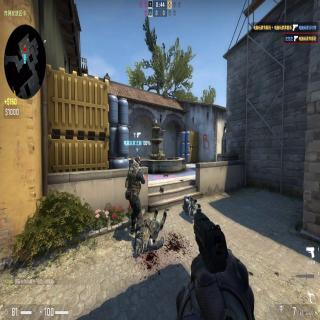CT-Body: (125, 155, 145, 234)
CT-Head: (134, 156, 141, 167)
